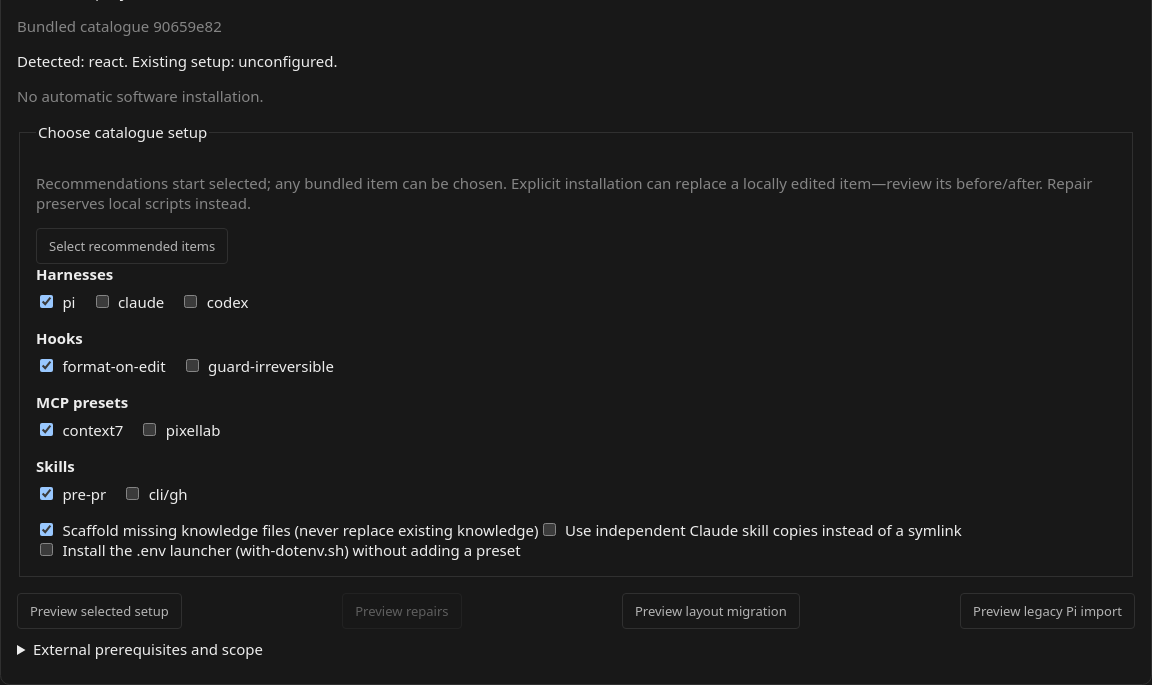
Test: keeps scanning read-only and requires exact preview plus explicit approval
(page scrolled)
Expected: the text "Approve and apply" is not shown
Click the button "Preview selected setup" at (99, 611), box [17,593,182,629]
(page scrolled)
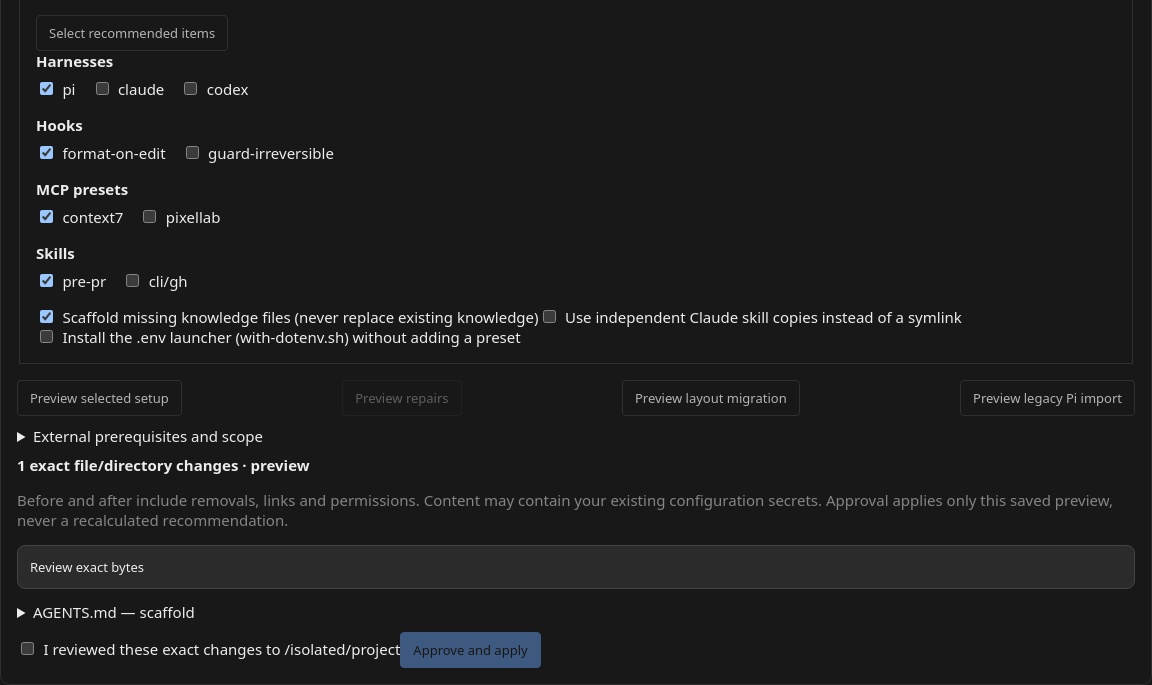
Expected: the heading "1 exact file/directory changes · preview" is shown, [17,455,310,475]
Expected: the button "Approve and apply" is disabled, [400,632,541,668]
Click the heading "AGENTS.md — scaffold" at (114, 612), box [33,602,195,622]
(page scrolled)
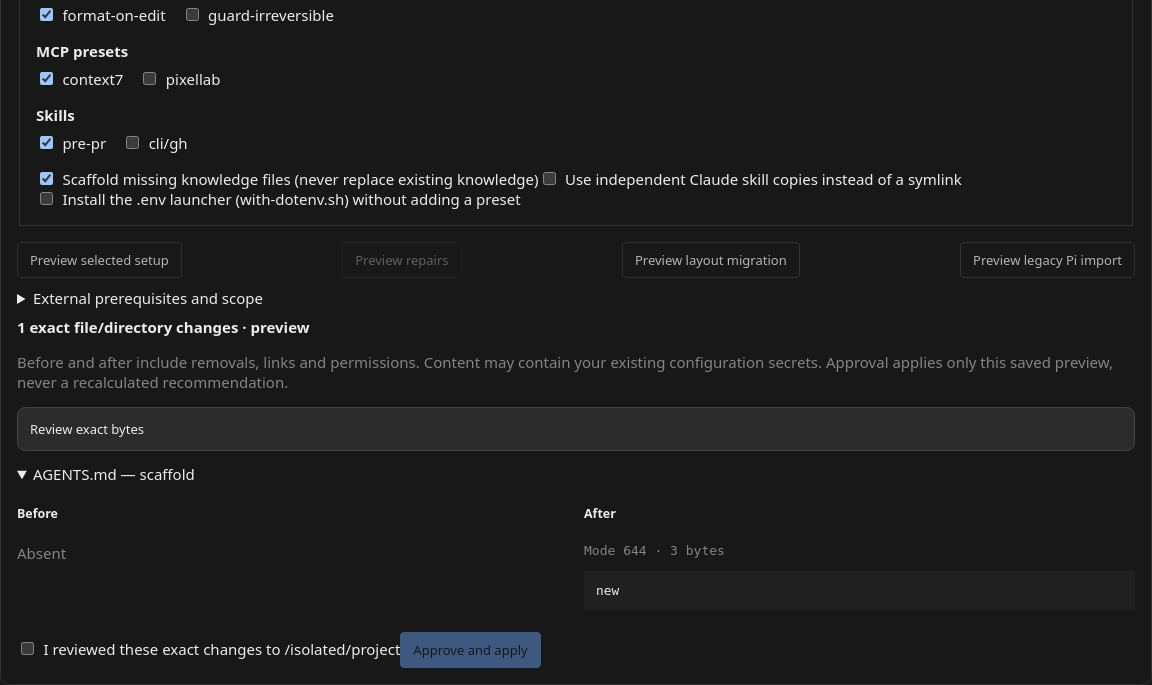
Expected: the text "new" is shown, [584,571,1135,610]
Expected: the text "Mode 644 · 3 bytes" is shown, [584,543,725,558]
Click the checkbox labelled "I reviewed these exact changes to /isolated/project" at (28, 649), box [21,642,34,655]
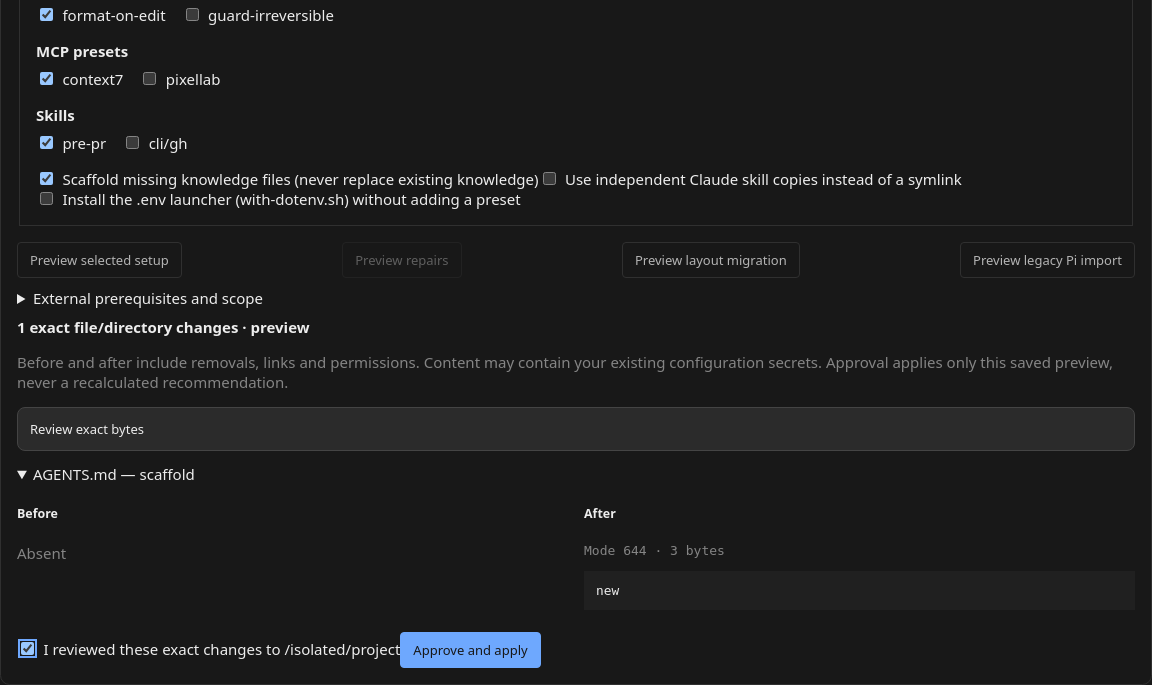
Click the button "Approve and apply" at (470, 650), box [400,632,541,668]
(page scrolled)
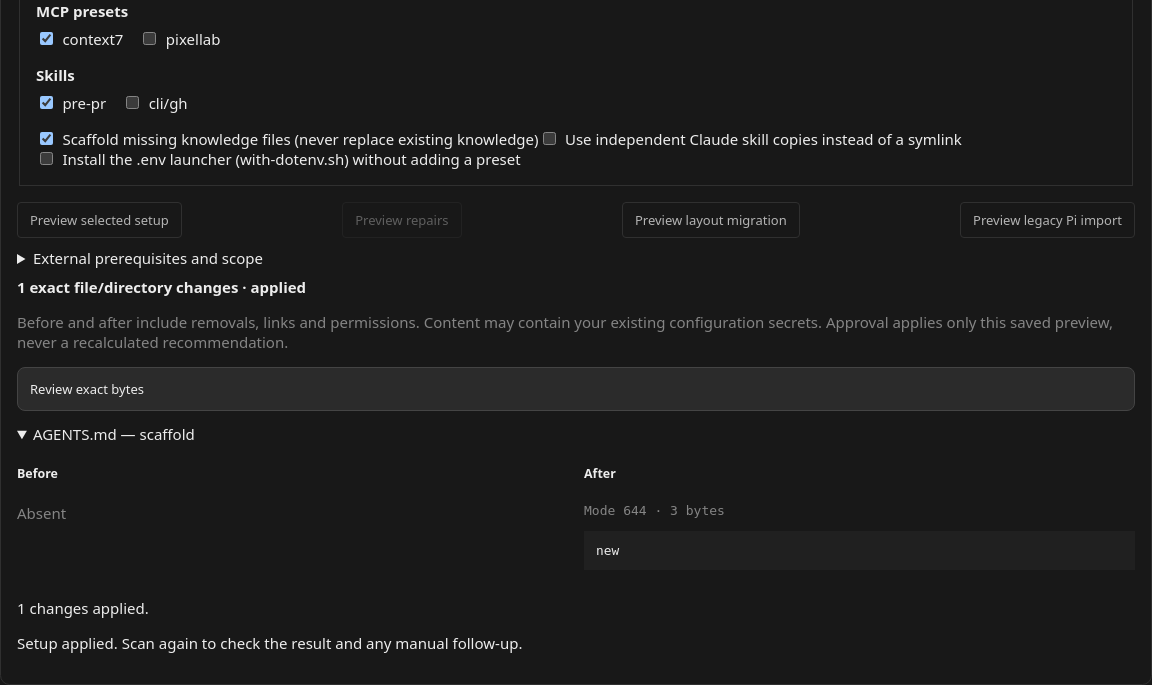
Expected: the text "Setup applied" is shown, [17,632,522,652]
Expected: the button "Approve and apply" is gone
